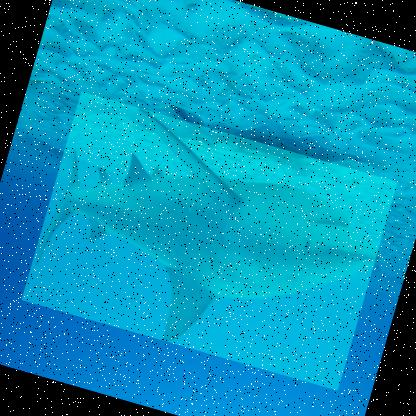bulldog-shark: (21, 89, 398, 390)
